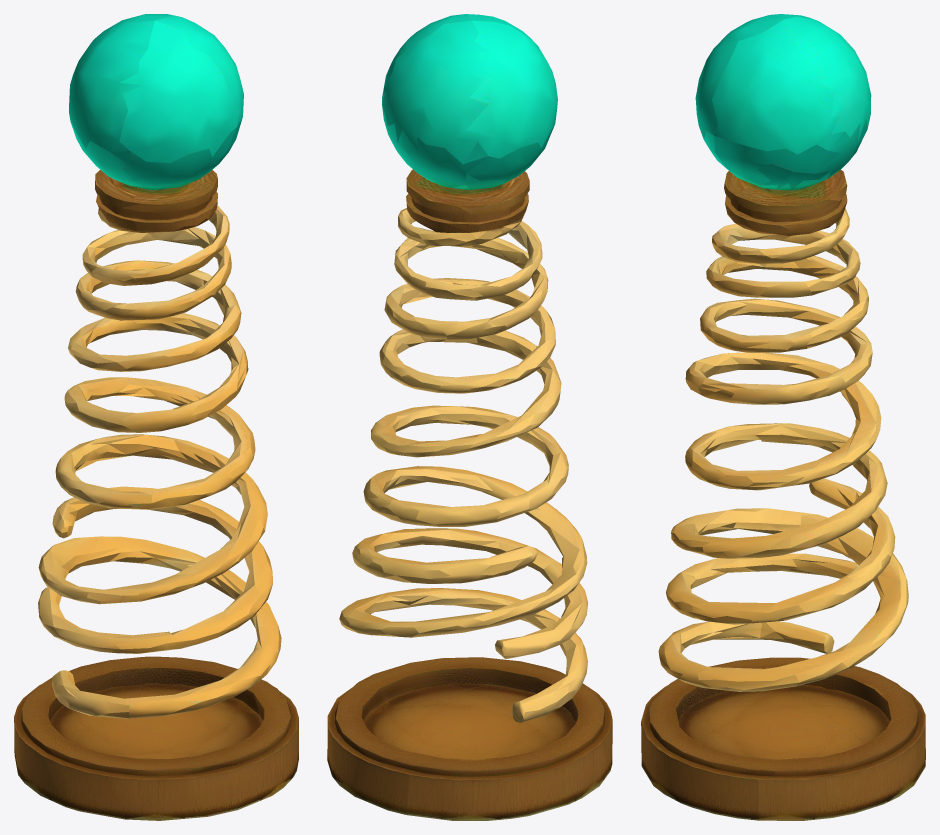
File: powerup-bounce.glb
The picture shows the model from 3 angles, left to right: view 1: azimuth 30°, elevation 25°; view 2: azimuth 150°, elevation 25°; view 3: azimuth 270°, elevation 25°; orthographic projection.
Size of the model in its own units: 0.6573 by 1.9 by 0.6614.
Materials: 1 (1 with a texture image).
